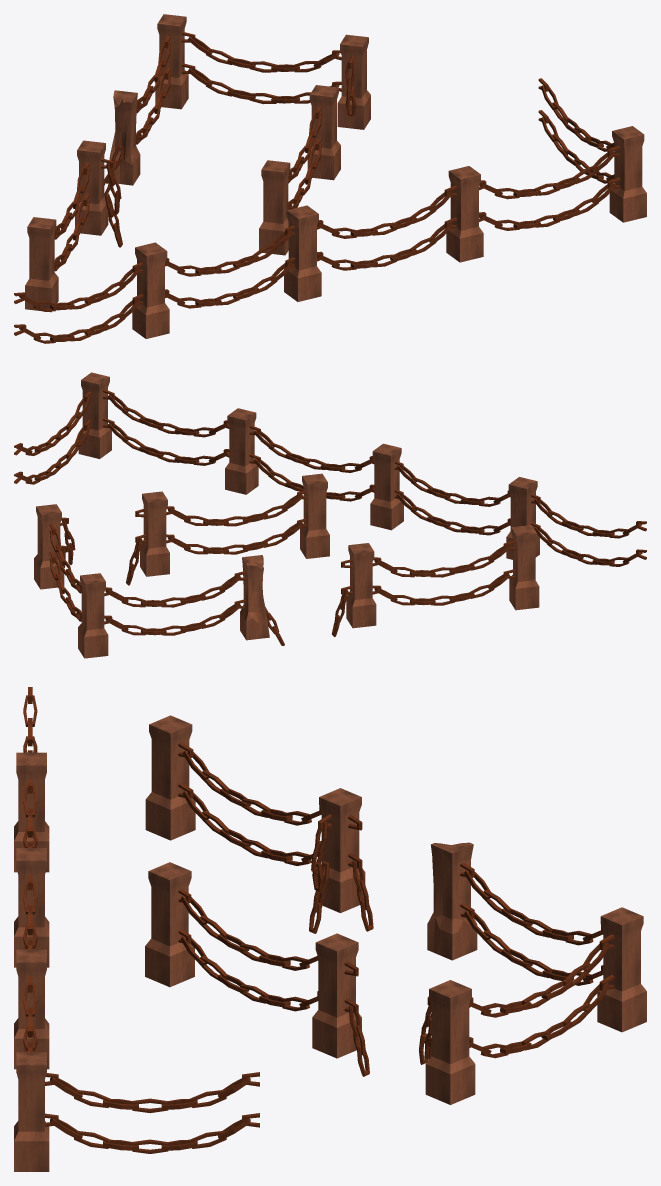
File: LV4Noclip.fbx
3 renders of one model, top to bottom at view 1: azimuth 30°, elevation 25°; view 2: azimuth 150°, elevation 25°; view 3: azimuth 270°, elevation 25°, orthographic. The views are drawn at different scales.
Parts seen in each view (by area): view 1: pCube143; view 2: pCube143; view 3: pCube143.
Boxes of the visible parts, x1,y1,x2,y2 form: pCube143: (14, 14, 646, 343); pCube143: (14, 372, 646, 658); pCube143: (14, 687, 646, 1171).
Size of the model in its own units: 252 by 37.17 by 171.
